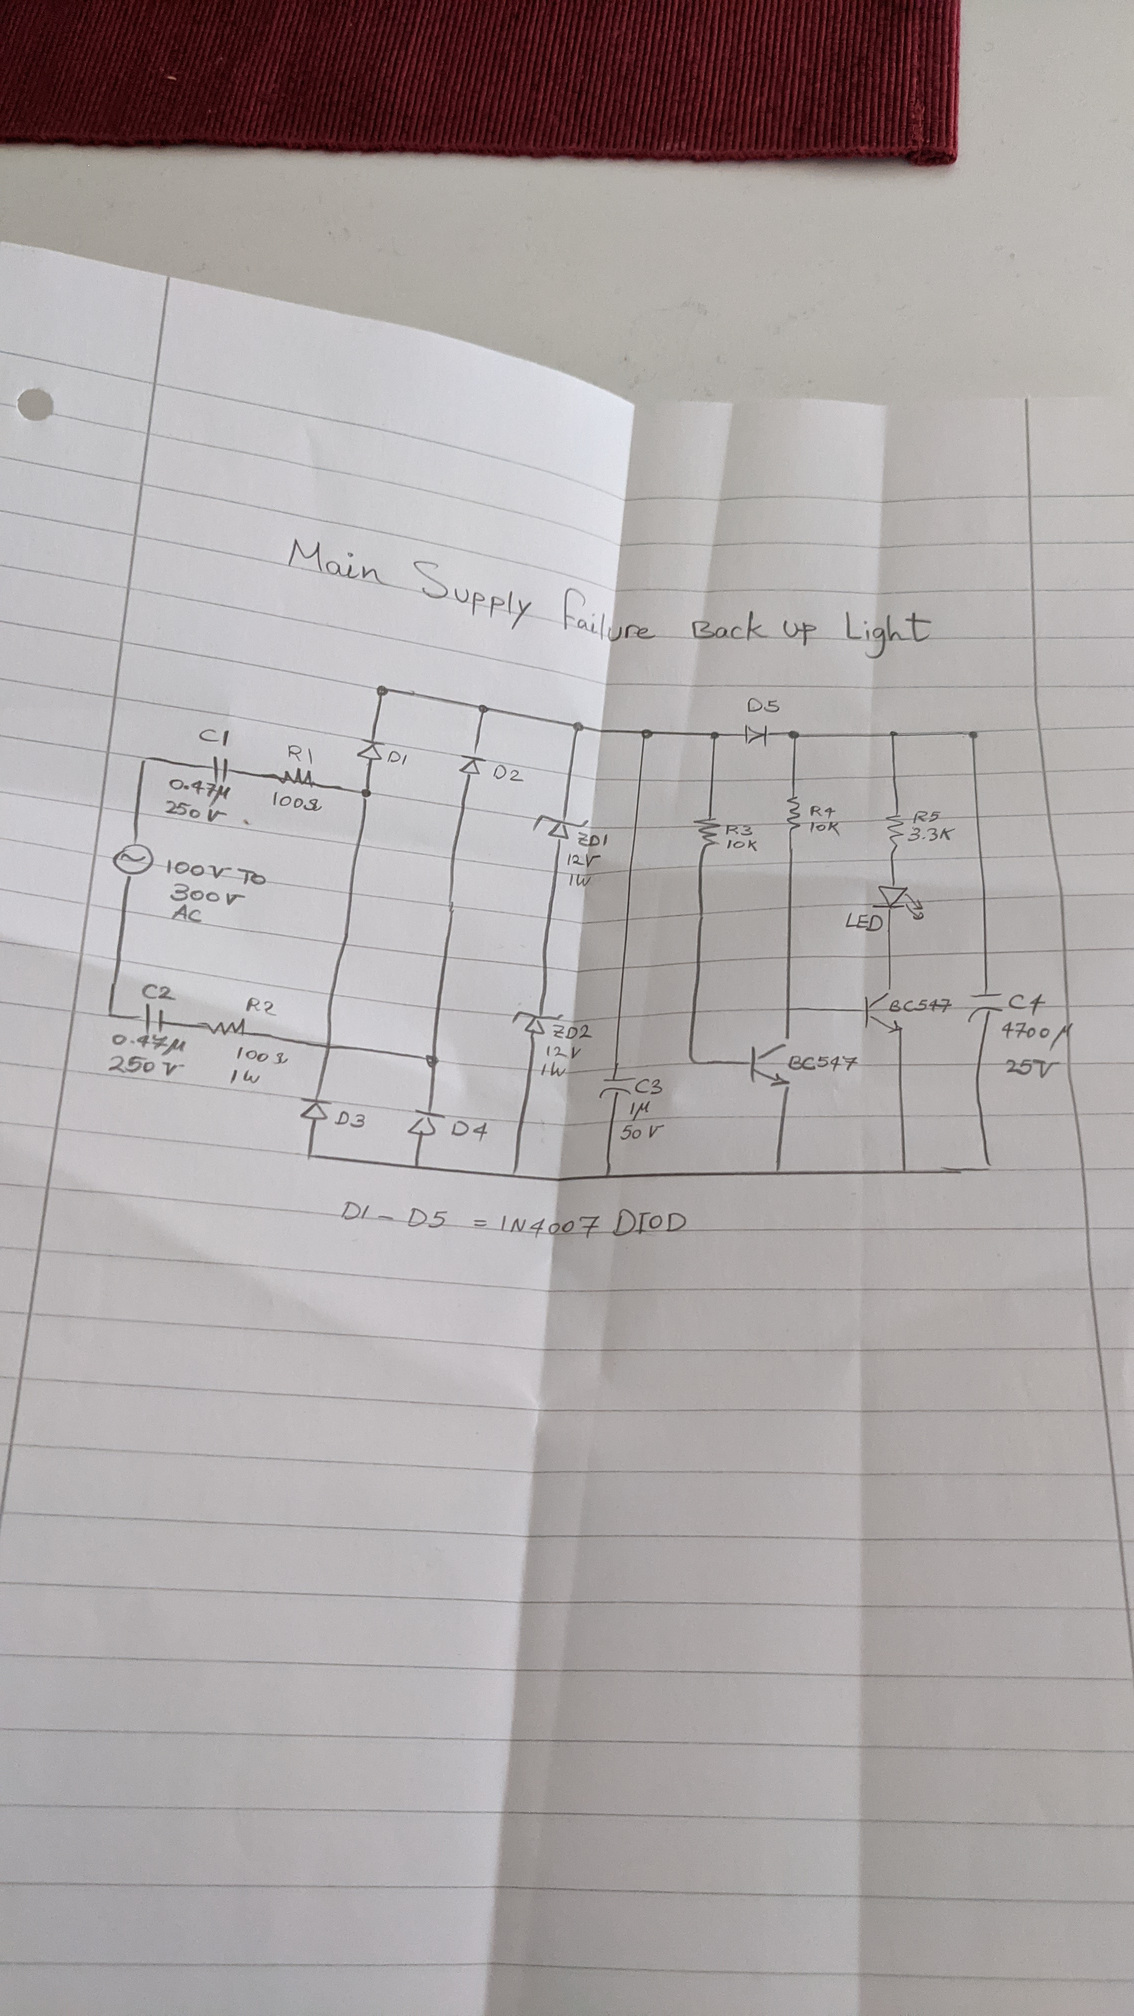capacitor.unpolarized: (964, 989, 1004, 1025), (134, 1002, 172, 1034), (597, 1073, 637, 1099), (209, 755, 233, 784)
crossover: (321, 1038, 336, 1054)
diode: (532, 814, 588, 842), (510, 1009, 565, 1037), (404, 1108, 447, 1137), (295, 1095, 334, 1122), (741, 721, 771, 749), (456, 750, 487, 777), (354, 737, 386, 762)
diode.light_emitting: (870, 883, 926, 921)
junction: (424, 1052, 443, 1072), (357, 785, 375, 802), (958, 728, 980, 741), (685, 1052, 702, 1068), (105, 1007, 120, 1022), (507, 1169, 523, 1182), (570, 719, 586, 732), (375, 684, 390, 698), (305, 1151, 321, 1163), (982, 1160, 996, 1174), (601, 1169, 615, 1182), (640, 727, 655, 739), (786, 728, 800, 741), (138, 755, 152, 767), (476, 703, 492, 714), (781, 1002, 796, 1014), (773, 1166, 785, 1178), (888, 728, 901, 739), (709, 730, 721, 741), (411, 1160, 424, 1171), (900, 1167, 910, 1176)
resistor: (195, 1016, 248, 1038), (267, 766, 316, 789), (692, 816, 723, 850), (883, 810, 906, 854), (785, 793, 802, 832)
text: (287, 536, 935, 663), (339, 1199, 688, 1241), (165, 858, 267, 888), (1001, 1020, 1073, 1052), (168, 882, 246, 906), (107, 1054, 186, 1077), (168, 775, 231, 804), (109, 1033, 187, 1056), (786, 1051, 860, 1074), (163, 799, 228, 822), (1004, 1056, 1062, 1080), (888, 996, 953, 1015), (270, 791, 323, 813), (234, 1045, 289, 1066), (1007, 991, 1048, 1016), (450, 1117, 489, 1144), (845, 911, 885, 933), (550, 1022, 594, 1041), (906, 827, 955, 843), (619, 1123, 665, 1141), (140, 983, 179, 1002), (492, 763, 526, 784), (197, 727, 231, 748), (172, 903, 204, 925), (245, 996, 277, 1018), (544, 1043, 583, 1061), (285, 744, 316, 766), (575, 829, 609, 849), (332, 1109, 367, 1128), (564, 852, 602, 868), (746, 696, 781, 714), (634, 1077, 665, 1097), (809, 820, 842, 836), (228, 1069, 260, 1086), (539, 1061, 568, 1079), (629, 1099, 651, 1123), (726, 838, 759, 852), (912, 809, 942, 824), (726, 822, 755, 838), (809, 804, 836, 820), (568, 872, 593, 888), (388, 749, 408, 767)
transistor: (748, 1036, 793, 1092), (858, 986, 906, 1036)
voltage.dc_ac: (111, 838, 156, 881)
